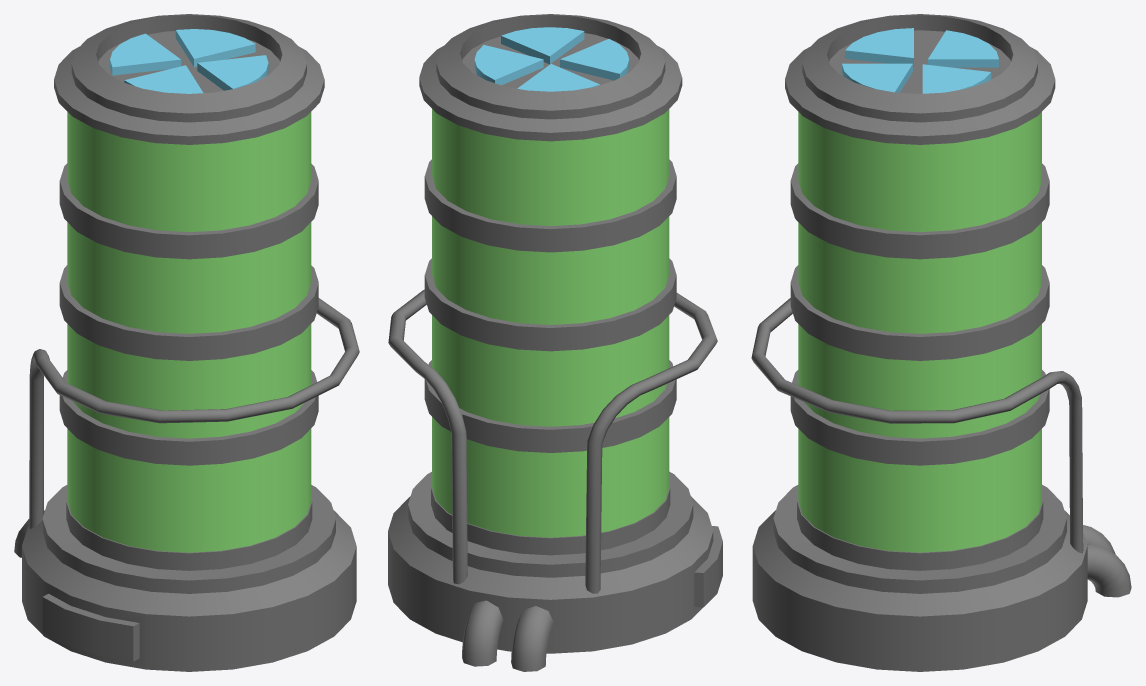
File: battery_mdl.fbx
3 views of the same model, side by side, from view 1: azimuth 30°, elevation 25°; view 2: azimuth 150°, elevation 25°; view 3: azimuth 270°, elevation 25° (orthographic). The views are drawn at different scales.
Parts seen in each view (by area): view 1: body_nskn, glass_nskn, marker4_nskn, marker3_nskn, marker1_nskn, marker2_nskn; view 2: body_nskn, glass_nskn, marker1_nskn, marker2_nskn, marker4_nskn, marker3_nskn; view 3: body_nskn, glass_nskn, marker3_nskn, marker2_nskn, marker1_nskn, marker4_nskn.
Part boxes in pixels (x1,y1,x2,y2): body_nskn: (14, 14, 359, 671); glass_nskn: (67, 112, 311, 552); marker4_nskn: (175, 29, 255, 67); marker3_nskn: (110, 33, 181, 75); marker1_nskn: (197, 55, 268, 90); marker2_nskn: (124, 65, 203, 93); body_nskn: (388, 14, 722, 671); glass_nskn: (432, 109, 669, 537); marker1_nskn: (501, 27, 584, 64); marker2_nskn: (560, 39, 629, 80); marker4_nskn: (474, 45, 543, 85); marker3_nskn: (517, 64, 599, 91); body_nskn: (751, 14, 1131, 671); glass_nskn: (798, 112, 1041, 552); marker3_nskn: (928, 30, 998, 67); marker2_nskn: (845, 28, 913, 66); marker1_nskn: (842, 63, 912, 92); marker4_nskn: (922, 64, 991, 93).
Bounding box in the file's own units: 111 × 193 × 121.
